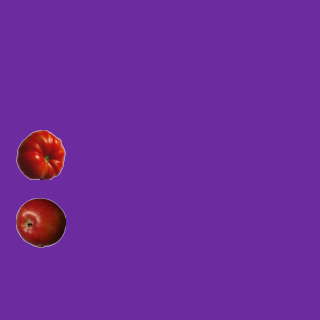Apple Braeburn: (15, 197, 65, 247)
Tomato 3: (15, 129, 65, 179)
